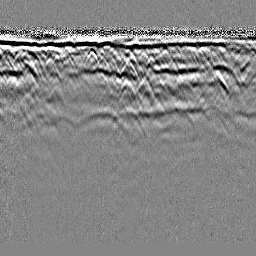cavity: (119, 61, 139, 78)
